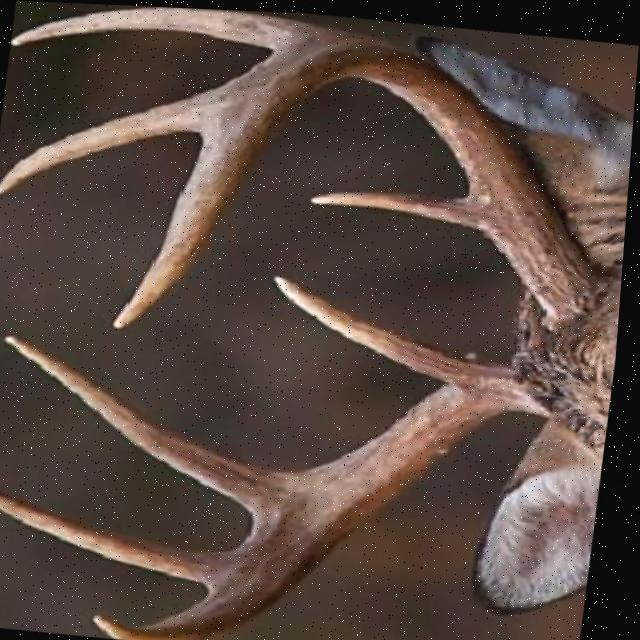L-F: (115, 33, 614, 328)
L-G1: (311, 186, 478, 223)
L-G2: (11, 5, 326, 46)
L-G3: (0, 91, 212, 194)
R-F: (97, 357, 567, 640)
R-G1: (278, 270, 487, 378)
R-G2: (7, 333, 291, 505)
R-G3: (0, 487, 237, 583)
